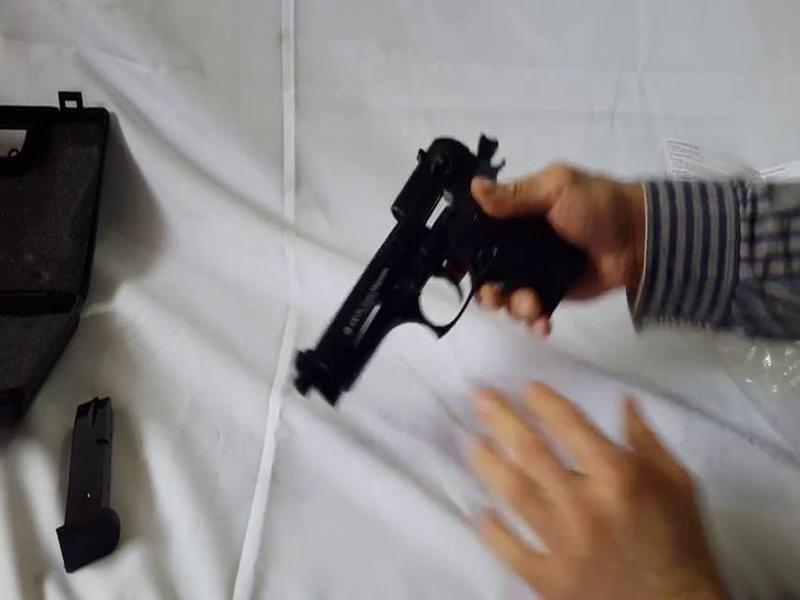Pistola: (270, 122, 582, 426)
